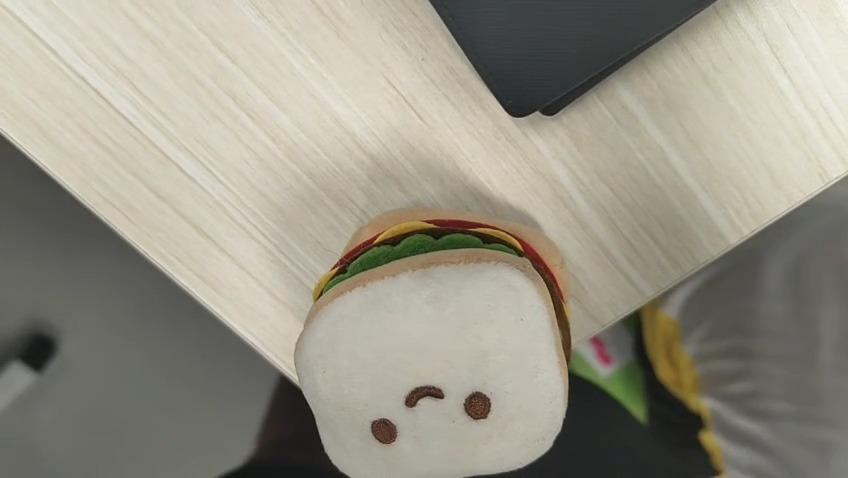objects: (292, 214, 571, 476)
